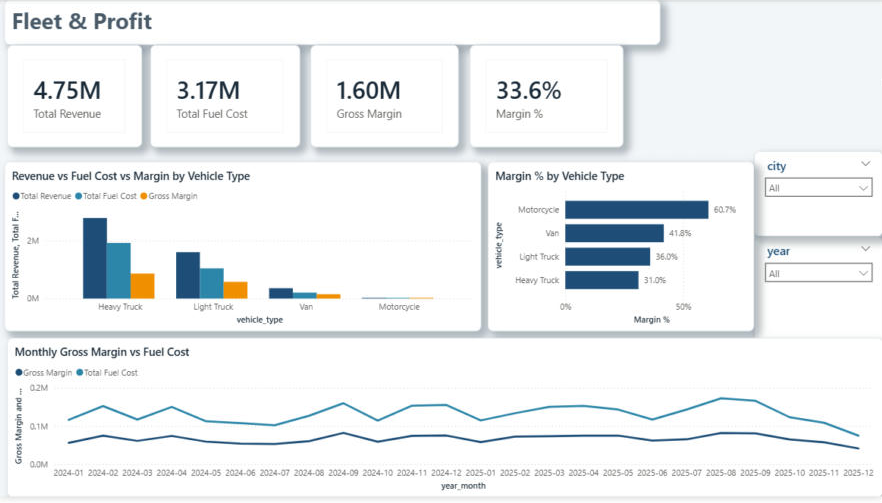

The page's visual inventory and layout, read from the dashboard file:
{"tool":"powerbi","page":{"name":"Fleet & Profit","canvas":[1280,720],"ordinal":2},"visuals":[{"type":"textbox","box":[8.2,0,949.6,65.9],"z":0},{"type":"slicer","fields":{"Values":["dim_date.year"]},"box":[1093.4,343.1,186.6,166],"z":1},{"type":"slicer","fields":{"Values":["dim_customer.city"]},"box":[1093.4,219.6,186.6,123.5],"z":2},{"type":"cardVisual","fields":{"Data":["fact_shipments.Total Revenue"]},"box":[12.9,65.9,194.9,148.2],"z":3},{"type":"cardVisual","fields":{"Data":["fact_shipments.Total Fuel Cost"]},"box":[220.1,65.9,216.8,148.2],"z":4},{"type":"cardVisual","fields":{"Data":["fact_shipments.Gross Margin"]},"box":[452,65.9,214.1,148.2],"z":5},{"type":"cardVisual","fields":{"Data":["fact_shipments.Margin %"]},"box":[682.5,65.9,222.3,148.2],"z":6},{"type":"clusteredColumnChart","title":"Revenue vs Fuel Cost vs Margin by Vehicle Type","fields":{"Category":["dim_vehicle.vehicle_type"],"Y":["fact_shipments.Total Revenue","fact_shipments.Total Fuel Cost","fact_shipments.Gross Margin"]},"box":[8.2,234.6,690.2,245.6],"z":7},{"type":"clusteredBarChart","title":"Margin % by Vehicle Type","fields":{"Category":["dim_vehicle.vehicle_type"],"Y":["fact_shipments.Margin %"]},"box":[708.1,234.6,385.6,245.6],"z":8},{"type":"lineChart","title":"Monthly Gross Margin vs Fuel Cost","fields":{"Category":["dim_date.year_month"],"Y":["fact_shipments.Gross Margin","fact_shipments.Total Fuel Cost"]},"box":[12.3,489.9,1267.9,230.5],"z":9}]}

Visuals, with their boxes in screenshot pixels (x1, y1, x2, y2), scaled from the page's 1280x720 canvas onto the 882x503 screenshot:
textbox: crop(6, 0, 660, 46)
slicer - dim_date.year: crop(753, 240, 881, 356)
slicer - dim_customer.city: crop(753, 153, 881, 240)
cardVisual - fact_shipments.Total Revenue: crop(9, 46, 143, 150)
cardVisual - fact_shipments.Total Fuel Cost: crop(152, 46, 301, 150)
cardVisual - fact_shipments.Gross Margin: crop(311, 46, 459, 150)
cardVisual - fact_shipments.Margin %: crop(470, 46, 623, 150)
"Revenue vs Fuel Cost vs Margin by Vehicle Type" clusteredColumnChart: crop(6, 164, 481, 335)
"Margin % by Vehicle Type" clusteredBarChart: crop(488, 164, 754, 335)
"Monthly Gross Margin vs Fuel Cost" lineChart: crop(8, 342, 881, 502)
